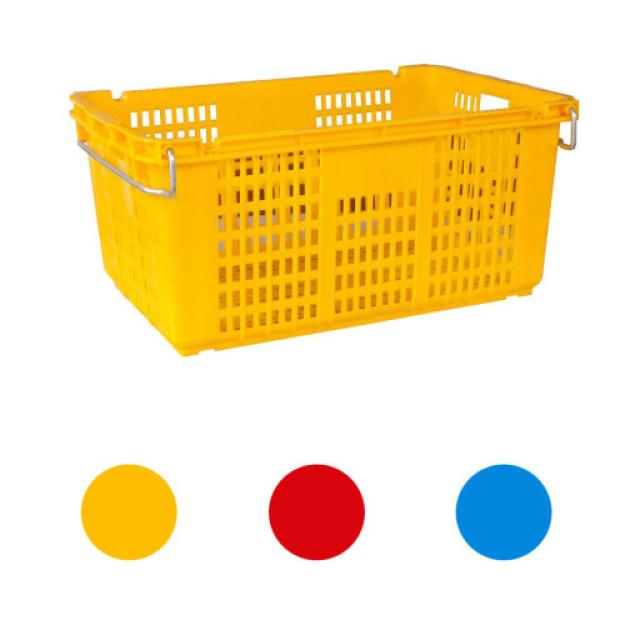basket: (67, 14, 610, 368)
